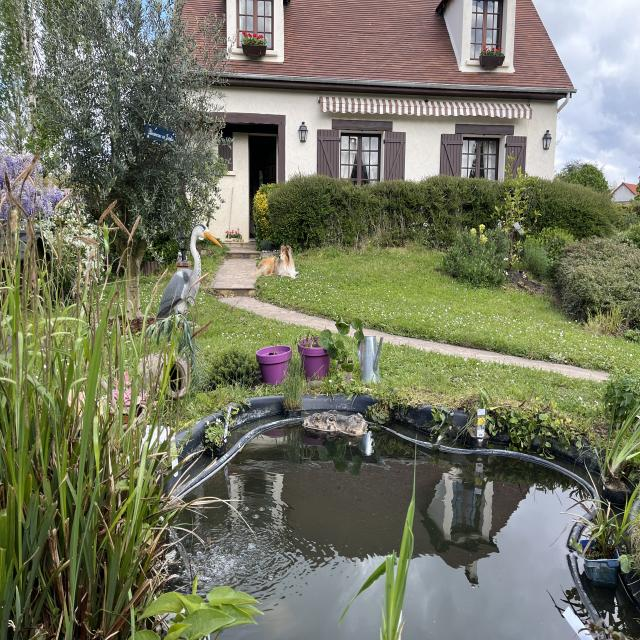Dog: (248, 235, 305, 299)
Heron: (145, 216, 222, 374)
